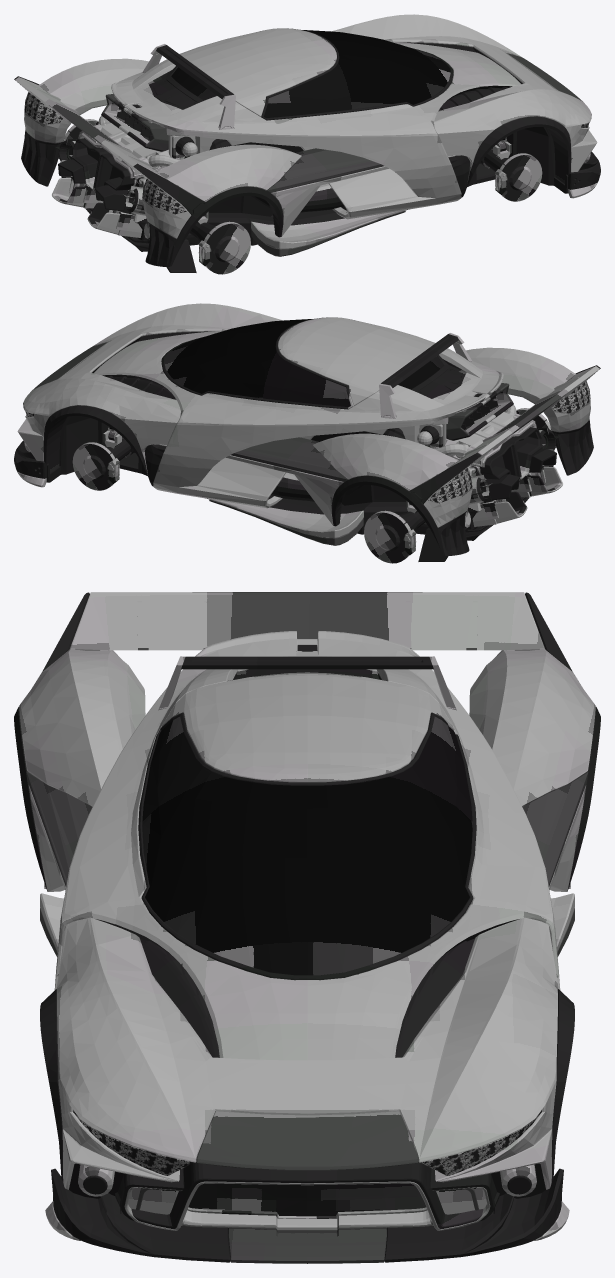
The model's file is insidio.glb.
3 views of the same model, one above another, from view 1: azimuth 30°, elevation 25°; view 2: azimuth 150°, elevation 25°; view 3: azimuth 270°, elevation 25° (orthographic). The views are drawn at different scales.
Visible parts, largest first — view 1: geometry_0; view 2: geometry_0; view 3: geometry_0.
Part boxes in pixels (x1,y1,x2,y2): geometry_0: (14,14,600,274); geometry_0: (14,303,600,563); geometry_0: (14,592,600,1263).
Size of the model in its own units: 140 by 41.91 by 78.69.
1 material, 1 textured.
